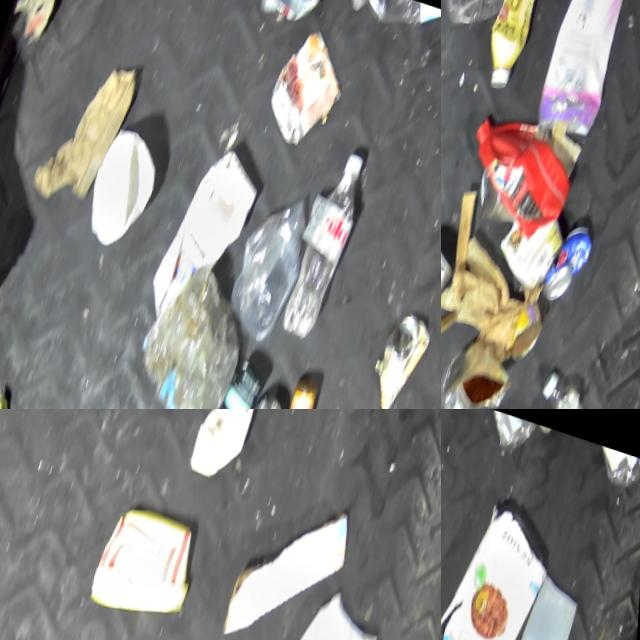can: (257, 9, 360, 154), (367, 294, 441, 409), (441, 324, 524, 409), (540, 203, 602, 302), (510, 285, 555, 359), (441, 217, 466, 349)
milk_jug: (235, 560, 392, 640)
non_white_jug: (453, 94, 589, 240), (88, 492, 209, 623)
plastic_bottle: (280, 132, 376, 341), (519, 352, 598, 409)
